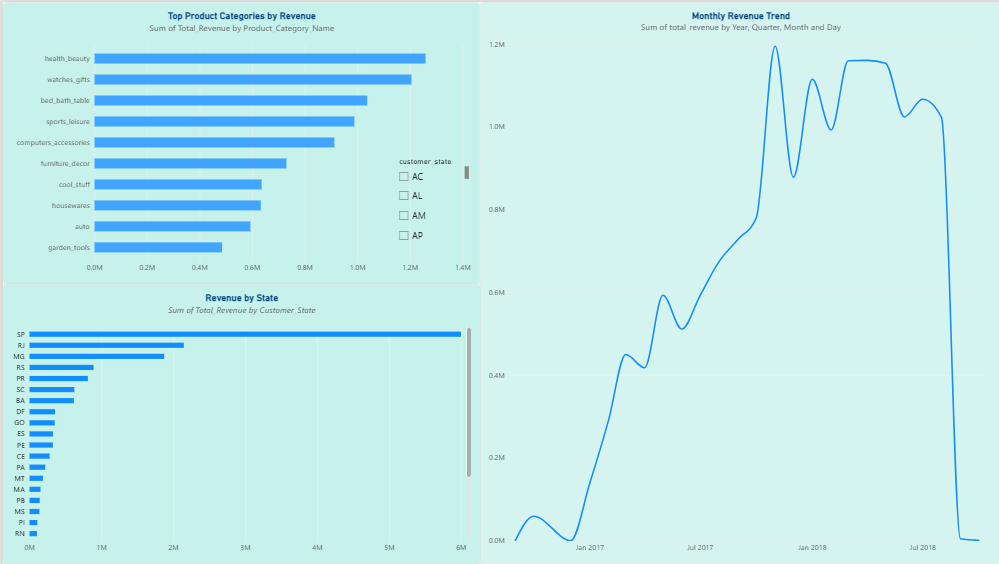

This screenshot's page, from the dashboard's own definition file:
{"tool":"powerbi","page":{"name":"\"Sales Overview\"","canvas":[1920,1080],"ordinal":0},"visuals":[{"type":"lineChart","title":"Monthly Revenue Trend","fields":{"Category":["monthly_revenue_for_excel.order_month.Variation.Date Hierarchy.Year","monthly_revenue_for_excel.order_month.Variation.Date Hierarchy.Quarter","monthly_revenue_for_excel.order_month.Variation.Date Hierarchy.Month","monthly_revenue_for_excel.order_month.Variation.Date Hierarchy.Day"],"Y":["Sum(monthly_revenue_for_excel.total_revenue)"]},"box":[917.8,0,1002.1,1080.9],"z":0},{"type":"clusteredBarChart","title":"Top Product Categories by Revenue","fields":{"Category":["category_revenue.product_category_name_english"],"Y":["Sum(category_revenue.total_revenue)"]},"box":[0,0,917,542.6],"z":1},{"type":"clusteredBarChart","title":"Revenue by State","fields":{"Category":["region_revenue.customer_state"],"Y":["Sum(region_revenue.total_revenue)"]},"box":[0,542.6,917,538.3],"z":2},{"type":"slicer","fields":{"Values":["region_revenue.customer_state"]},"box":[753.3,297.8,142.2,177.8],"z":3}]}

Visuals, with their boxes in screenshot pixels (x1, y1, x2, y2), scaled from the page's 1920x1080 canvas onto the 999x564 screenshot:
"Monthly Revenue Trend" lineChart: bbox(478, 0, 998, 563)
"Top Product Categories by Revenue" clusteredBarChart: bbox(0, 0, 477, 283)
"Revenue by State" clusteredBarChart: bbox(0, 283, 477, 563)
slicer - region_revenue.customer_state: bbox(392, 156, 466, 248)
